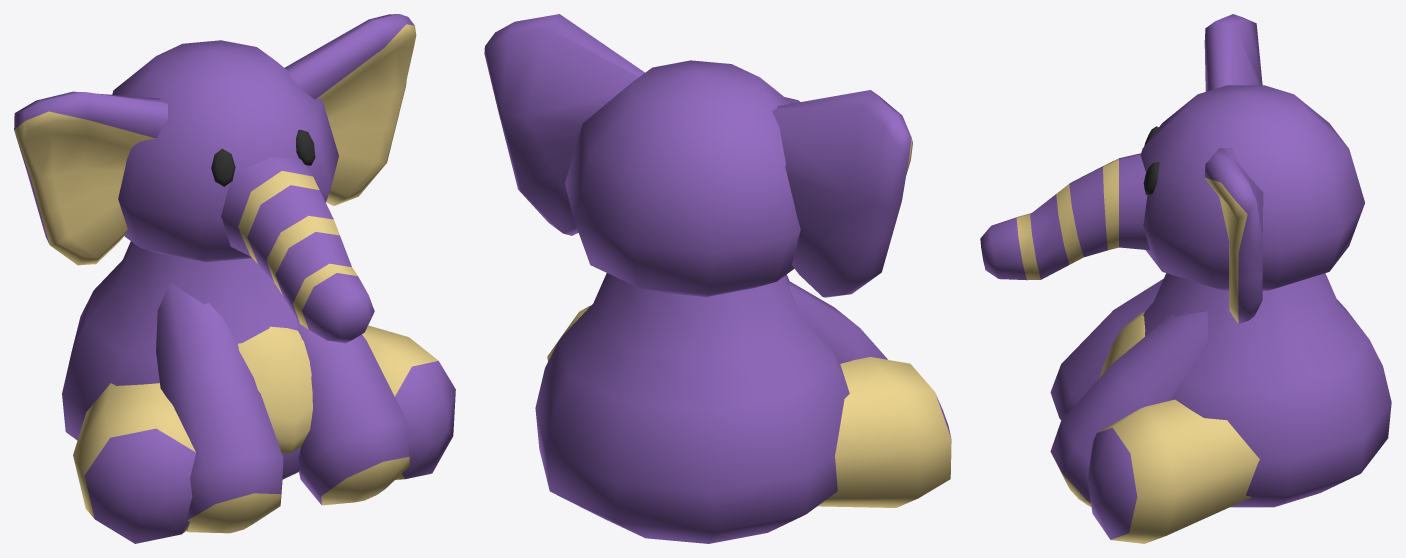
Rendered from Elephant_01.fbx.
3 views of the same model, side by side, from view 1: azimuth 30°, elevation 25°; view 2: azimuth 150°, elevation 25°; view 3: azimuth 270°, elevation 25° (orthographic). The views are drawn at different scales.
Parts seen in each view (by area): view 1: Elephant_01; view 2: Elephant_01; view 3: Elephant_01.
Boxes of the visible parts, x1,y1,x2,y2 form: Elephant_01: [14, 14, 455, 543]; Elephant_01: [484, 14, 951, 543]; Elephant_01: [980, 14, 1391, 543].
Bounding box in the file's own units: 0.3082 × 0.3158 × 0.2942.
